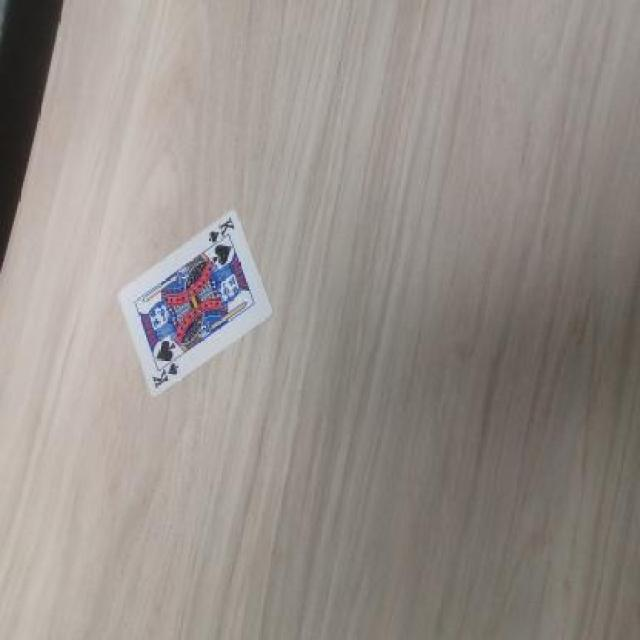KS: (202, 208, 240, 247), (144, 362, 187, 396)
